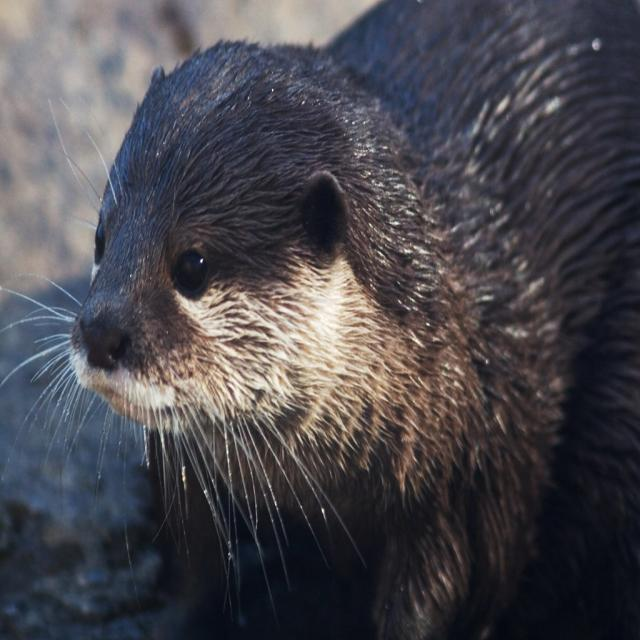otter: (72, 44, 640, 640)
